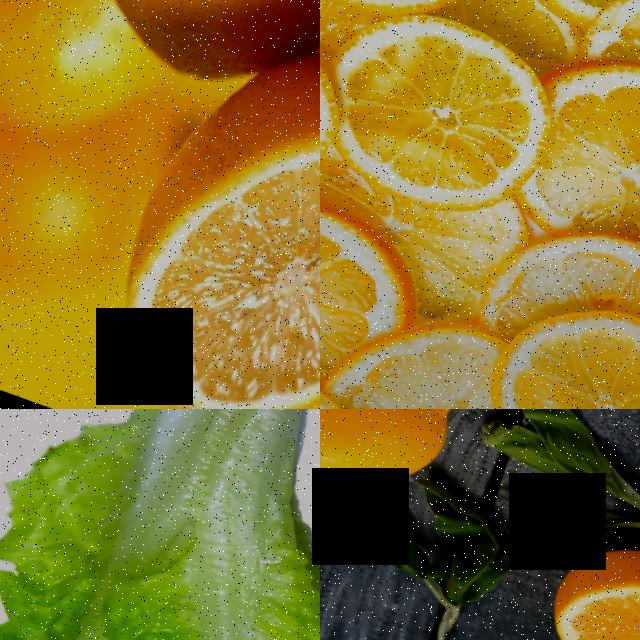lemon: (61, 48, 320, 409), (320, 0, 571, 251), (504, 46, 640, 279), (453, 280, 640, 409), (320, 164, 417, 397), (320, 409, 478, 548), (520, 512, 640, 640)
lettuce: (0, 409, 320, 640)
